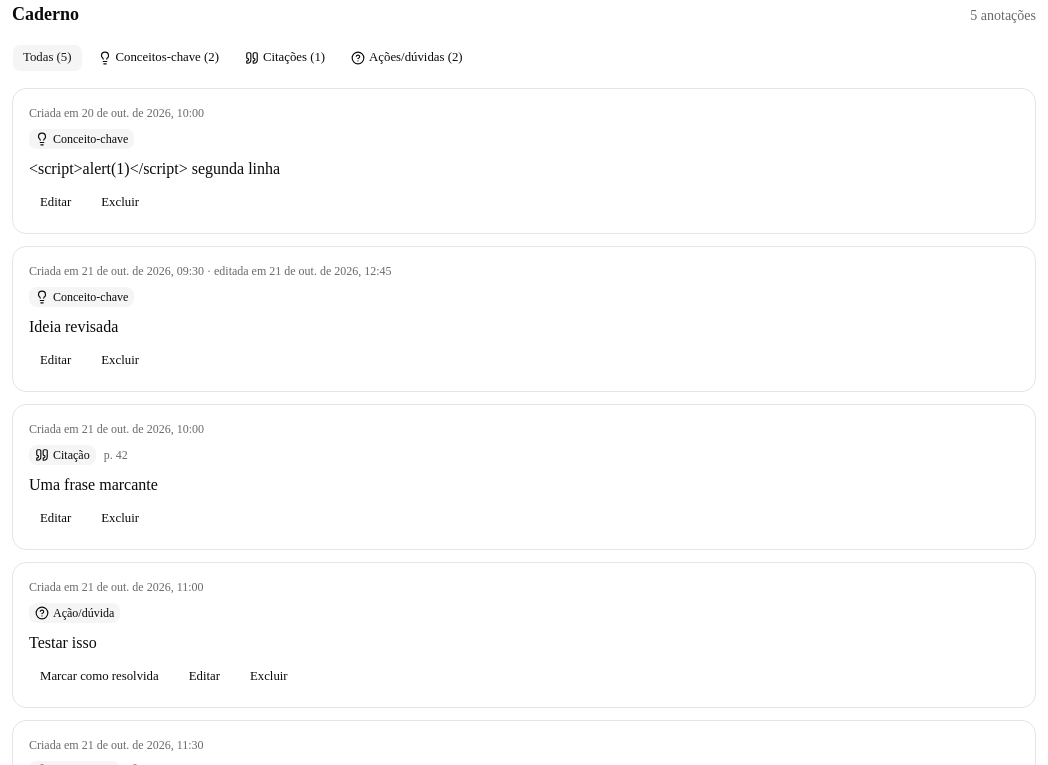
Scenario: Notebook › filters the notebook by kind, with how many each has
This screenshot has width=1048, height=765.
Click the button "Ações/dúvidas (2)" at coordinates (407, 58), box 340,44 -> 474,72
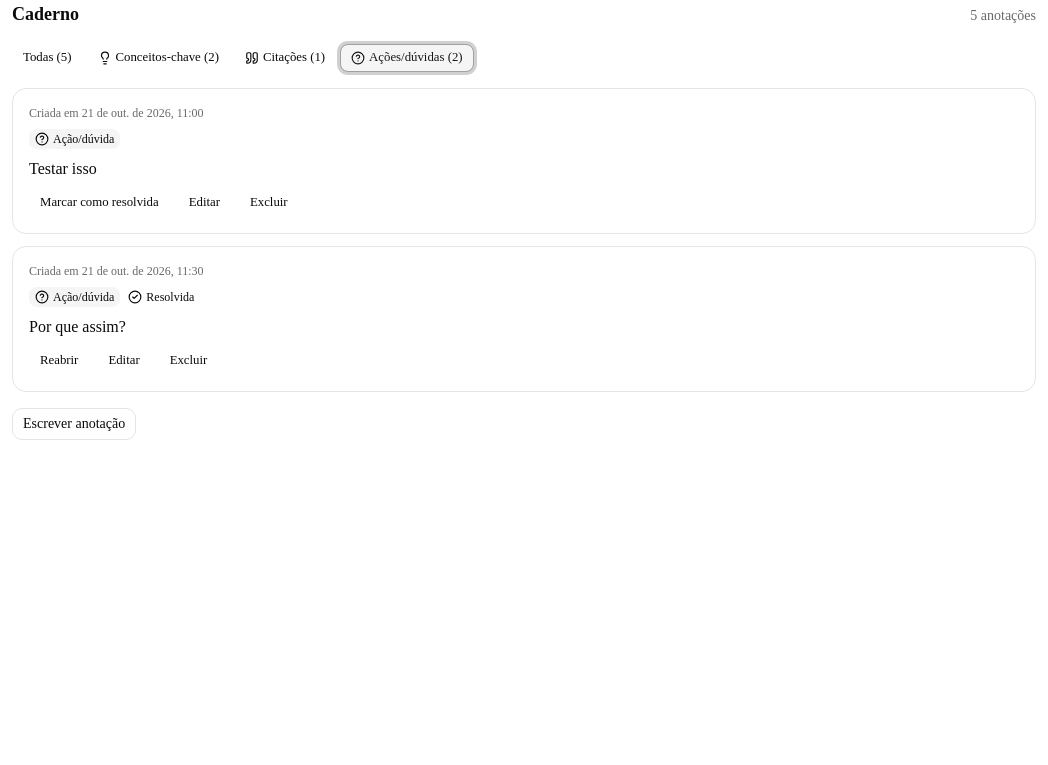
Result: the number of list items is 2 at 12,88 -> 1036,234; 12,246 -> 1036,392
Click the button "Citações (1)" at coordinates (285, 58), box 234,44 -> 336,72
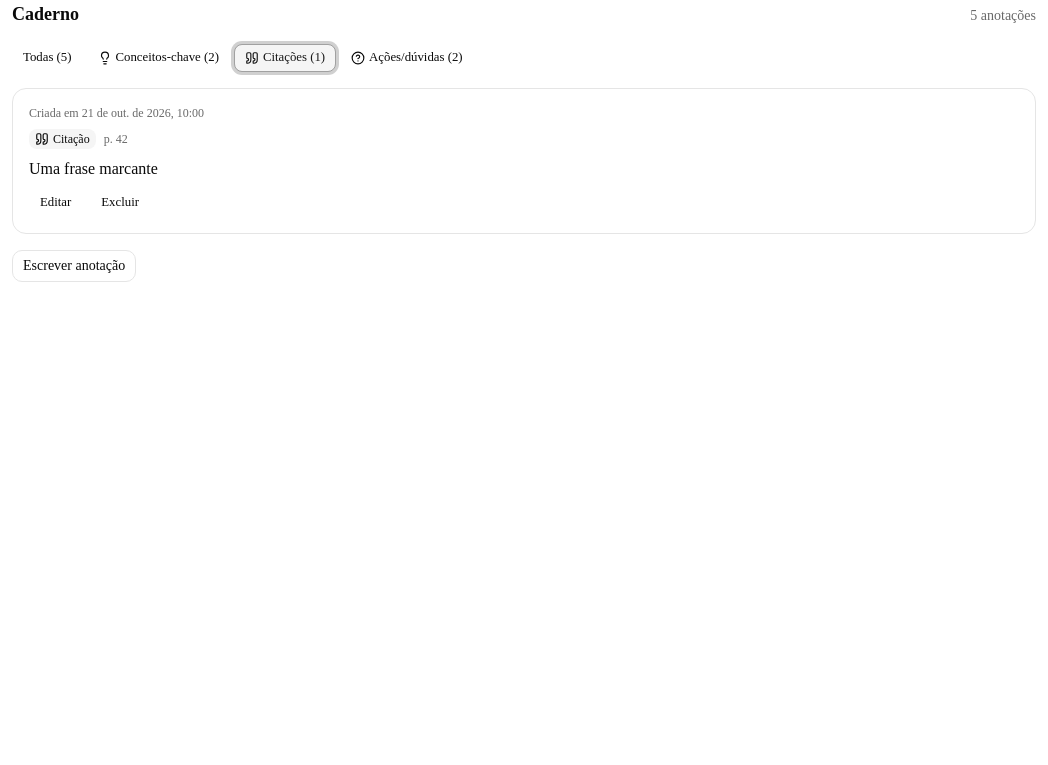
Result: the number of list items is 1 at 12,88 -> 1036,234
Result: the list named "Anotações de Capítulo 1" shows "Uma frase marcante" at 29,160 -> 158,177
